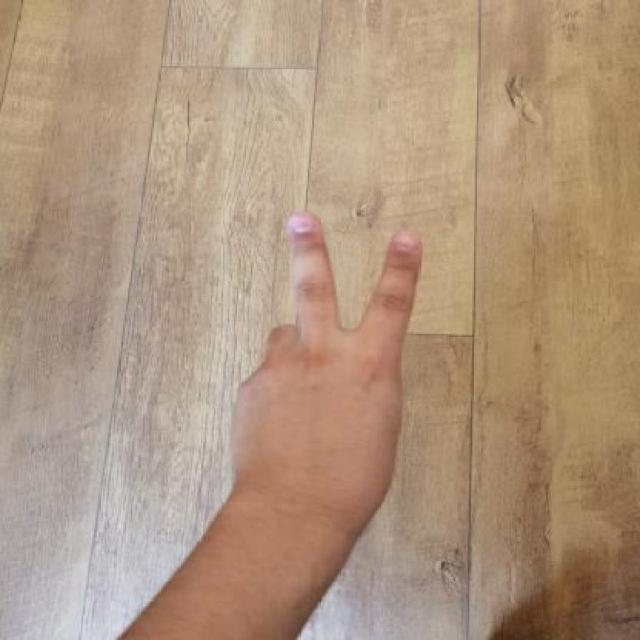V: (208, 201, 447, 527)
